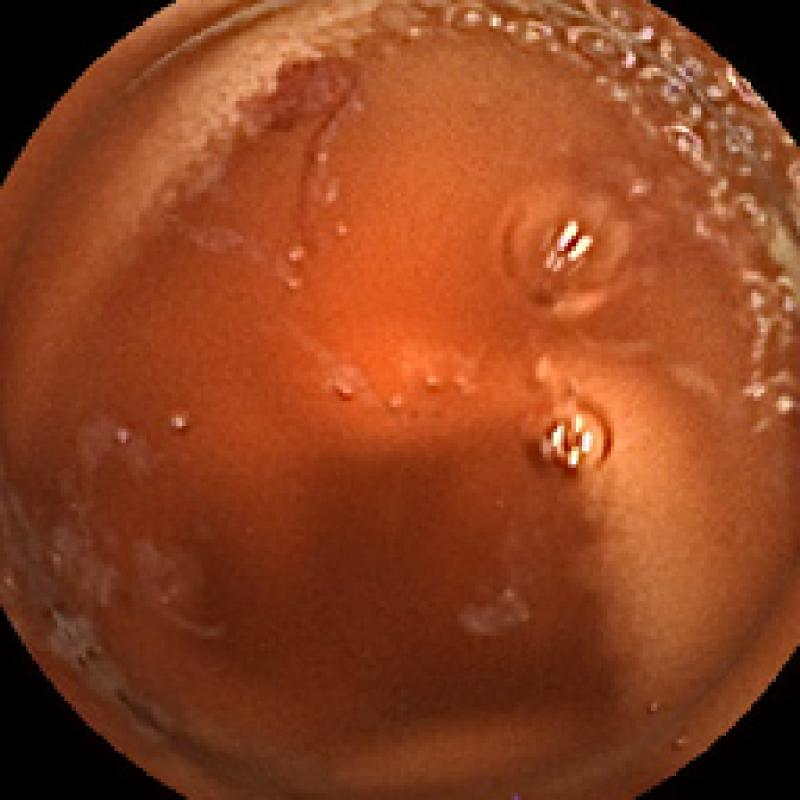bleeding: (218, 43, 361, 211)
